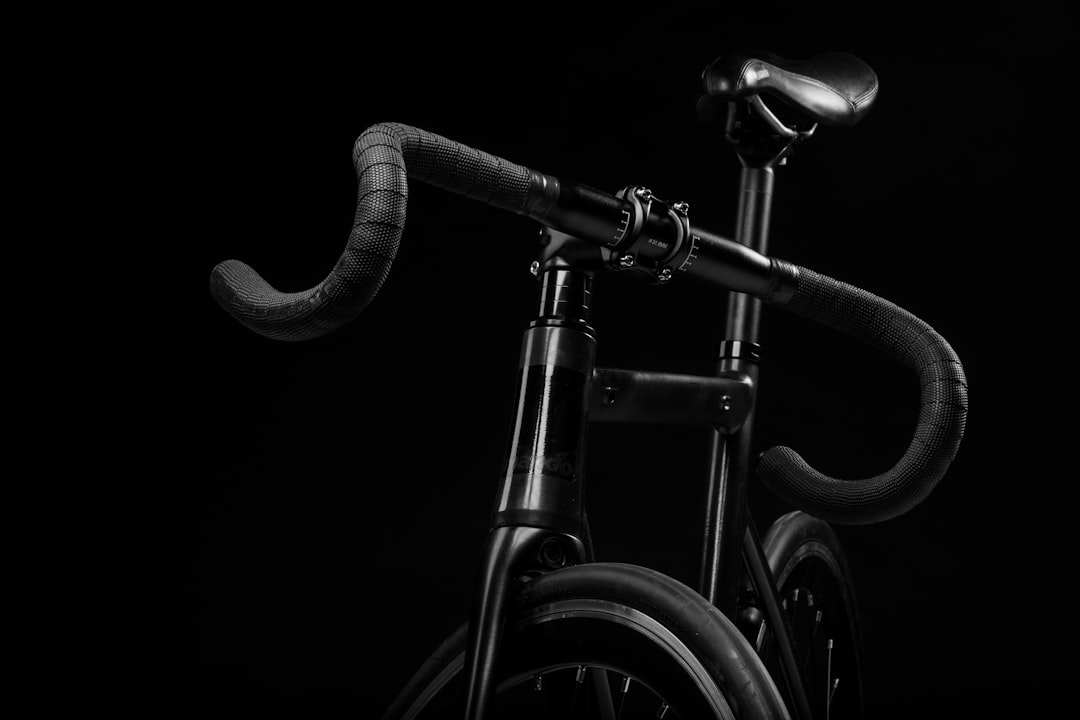bicycle: (208, 40, 967, 715)
